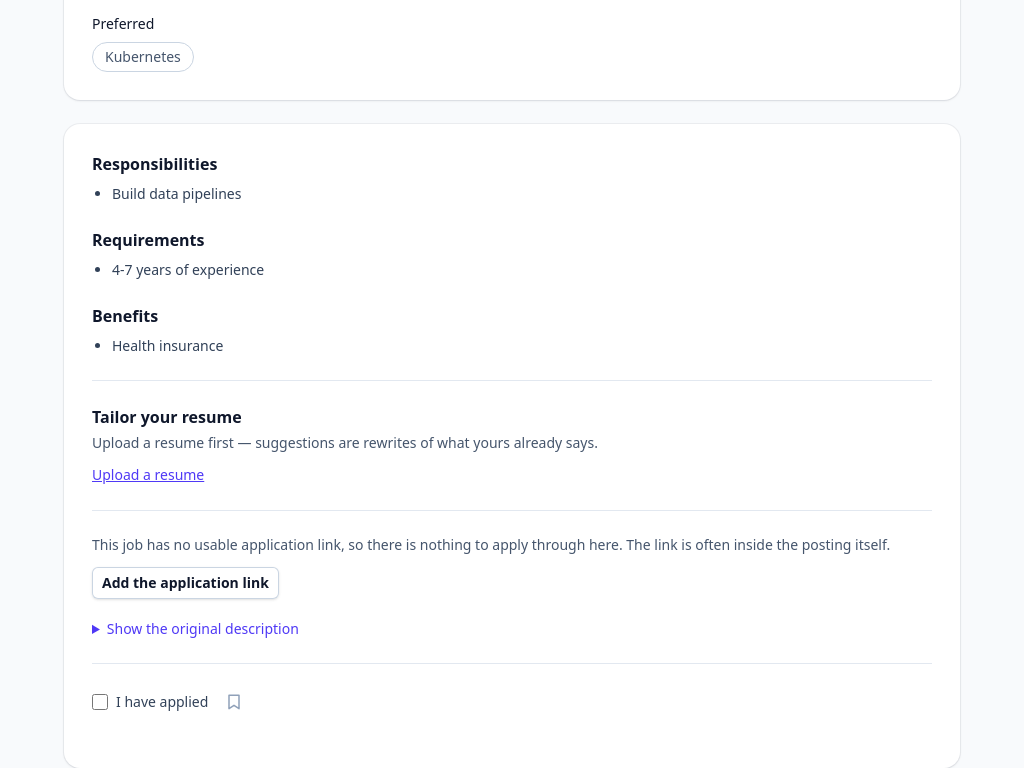
Test: JobDetailPage › applying › adds a missing link and switches to the apply view
(page scrolled)
Click the button "Add the application link" at (185, 583), box [92,567,279,599]
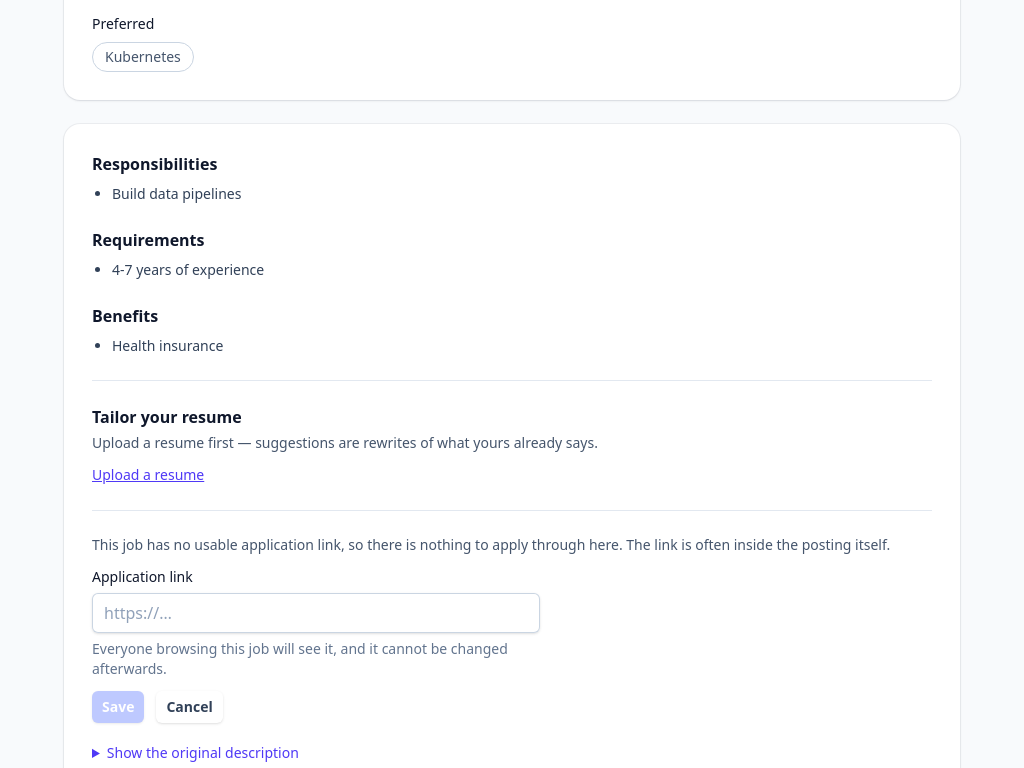
Type "acme.example/apply/9" into the field labelled "Application link" at (316, 613), box [92,593,540,633]
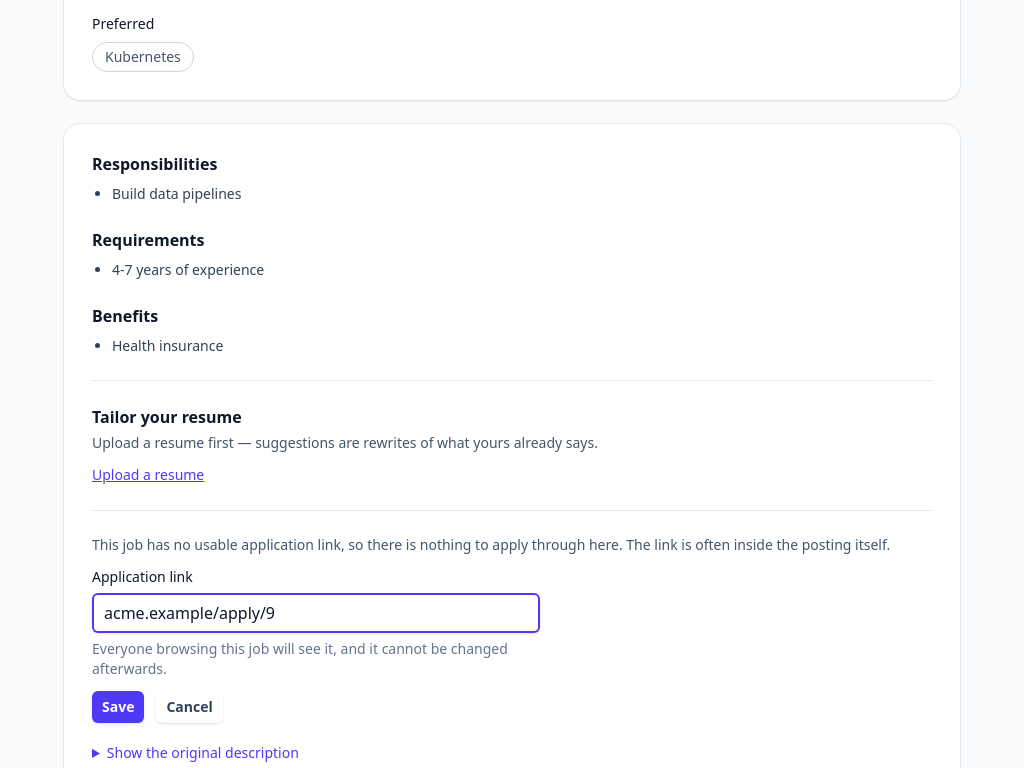
Click the button "Save" at (118, 707), box [92,691,144,723]
(page scrolled)
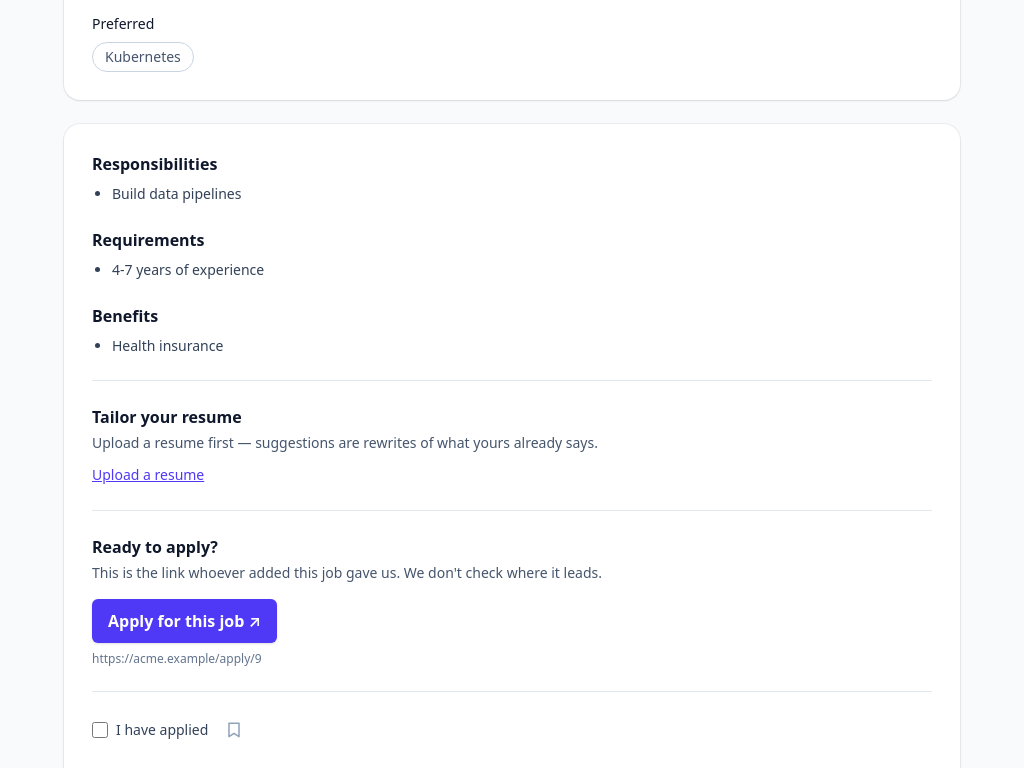
Result: the number of links "Apply for this job" is 2
